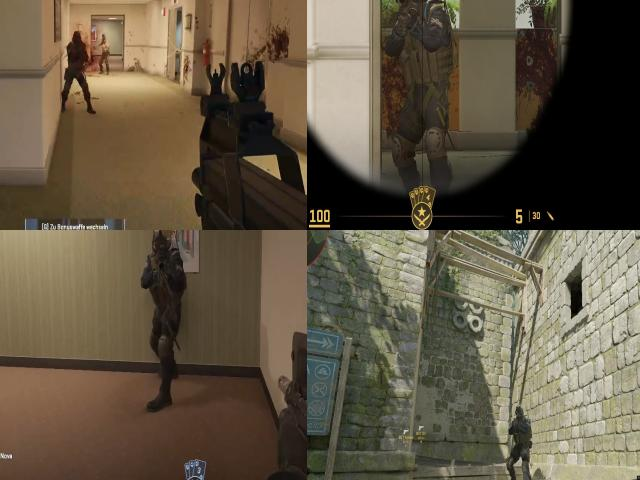CT: (397, 0, 447, 202), (143, 230, 182, 343), (504, 404, 536, 480), (65, 27, 89, 99)
CT-Head: (147, 230, 171, 260), (401, 0, 426, 12), (73, 28, 84, 50), (514, 404, 525, 423)
T-Head: (97, 36, 111, 64), (101, 34, 107, 45)
